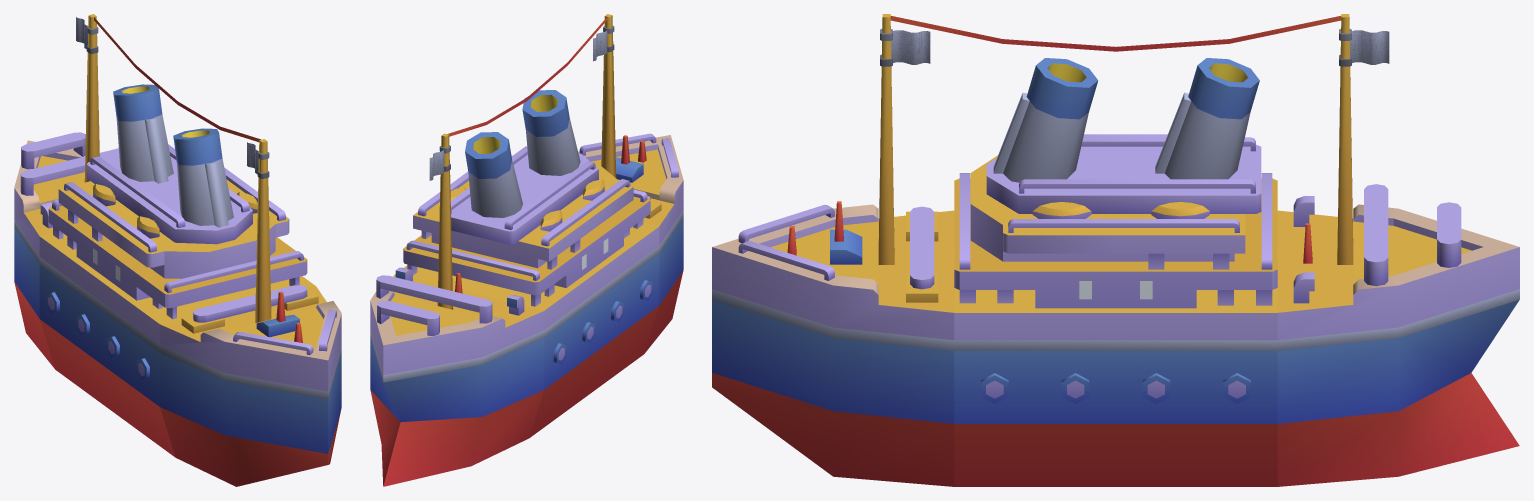
Rendered from sh-liner.glb.
3 views of the same model, side by side, from view 1: azimuth 30°, elevation 25°; view 2: azimuth 150°, elevation 25°; view 3: azimuth 270°, elevation 25° (orthographic). The views are drawn at different scales.
Parts seen in each view (by area): view 1: ship-ocean-liner-small; view 2: ship-ocean-liner-small; view 3: ship-ocean-liner-small.
Part boxes in pixels (left/top/right/bottom): ship-ocean-liner-small: left=14, top=14, right=341, bottom=486; ship-ocean-liner-small: left=370, top=14, right=683, bottom=486; ship-ocean-liner-small: left=712, top=14, right=1519, bottom=486.
Size of the model in its own units: 4.76 by 8.93 by 15.2.
Materials: 1 (1 with a texture image).
